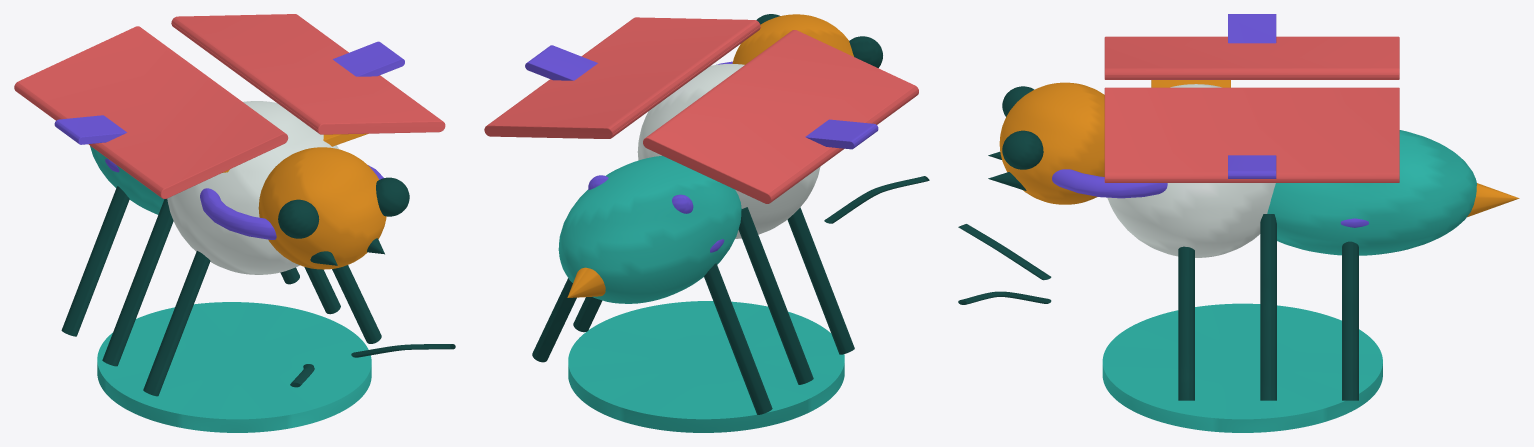
File: 0008_昆虫图鉴_绿尾大蚕蛾.glb
3 views of the same model, side by side, from view 1: azimuth 30°, elevation 25°; view 2: azimuth 150°, elevation 25°; view 3: azimuth 270°, elevation 25° (orthographic).
Parts seen in each view (by area): view 1: card_0008; view 2: card_0008; view 3: card_0008.
Part boxes in pixels (x1,y1,x2,y2): card_0008: (14,14,455,432); card_0008: (484,14,929,432); card_0008: (958,14,1519,432).
Size of the model in its own units: 1.16 by 1 by 1.72.
